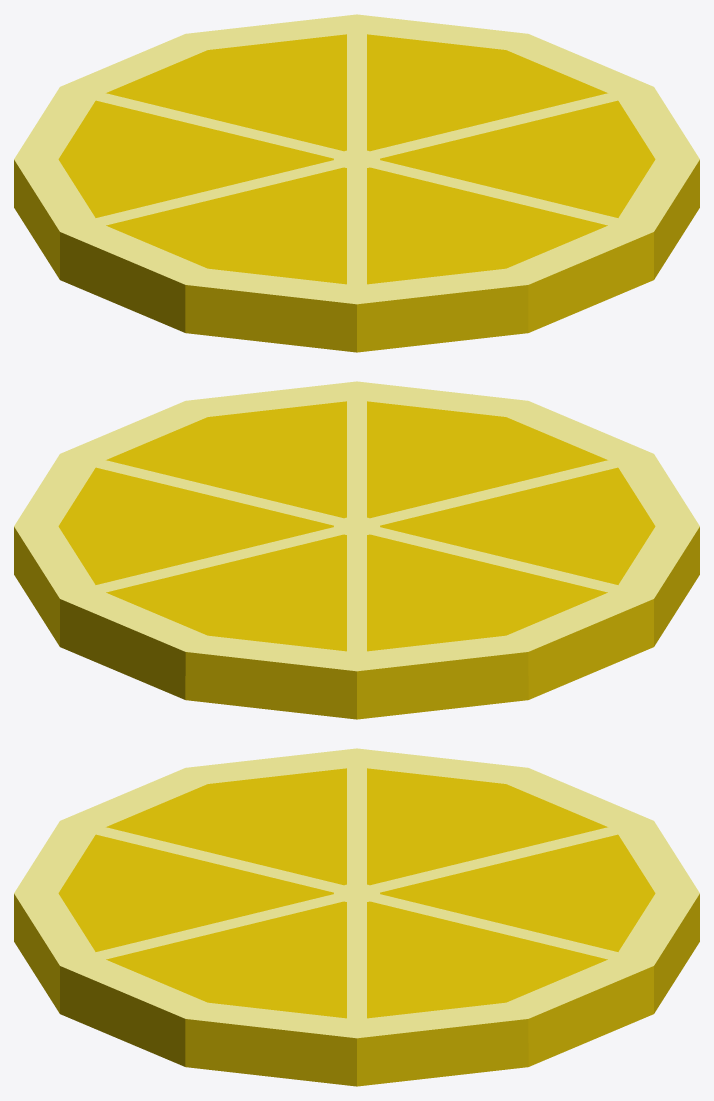
The model's file is Lemon_03.fbx.
3 renders of one model, top to bottom at view 1: azimuth 30°, elevation 25°; view 2: azimuth 150°, elevation 25°; view 3: azimuth 270°, elevation 25°, orthographic.
Visible parts, largest first — view 1: Lemon_03; view 2: Lemon_03; view 3: Lemon_03.
Boxes of the visible parts, x1,y1,x2,y2 form: Lemon_03: (14, 14, 699, 352); Lemon_03: (14, 381, 699, 719); Lemon_03: (14, 748, 699, 1086).
Bounding box in the file's own units: 7.24 × 0.5619 × 7.24.
